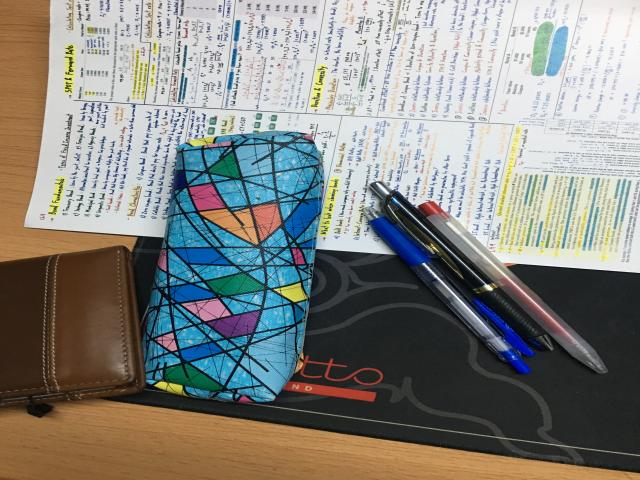Pen: (361, 183, 608, 376)
Wallet: (0, 246, 145, 416)
paper: (27, 0, 638, 271)
